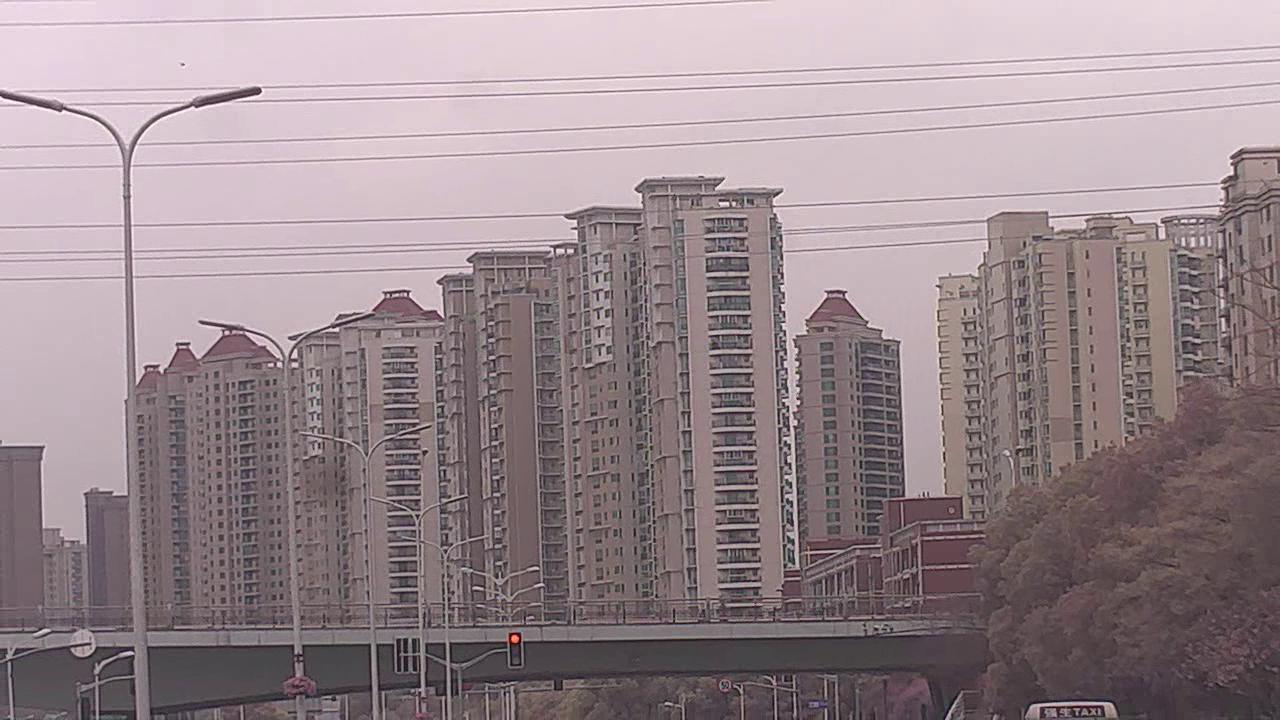traffic_light: (508, 632, 522, 670)
